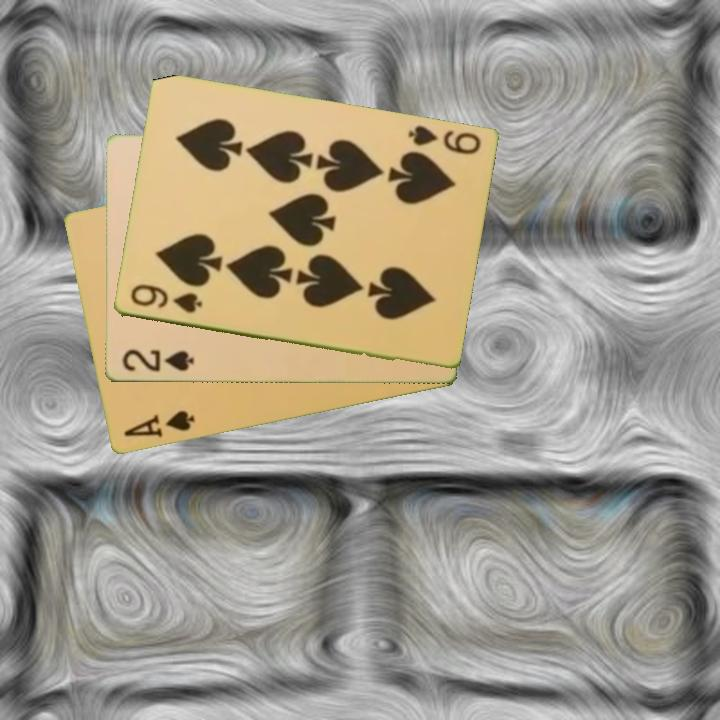2s: (118, 346, 196, 375)
9s: (126, 281, 205, 317), (404, 122, 483, 158)
As: (120, 407, 198, 441)
